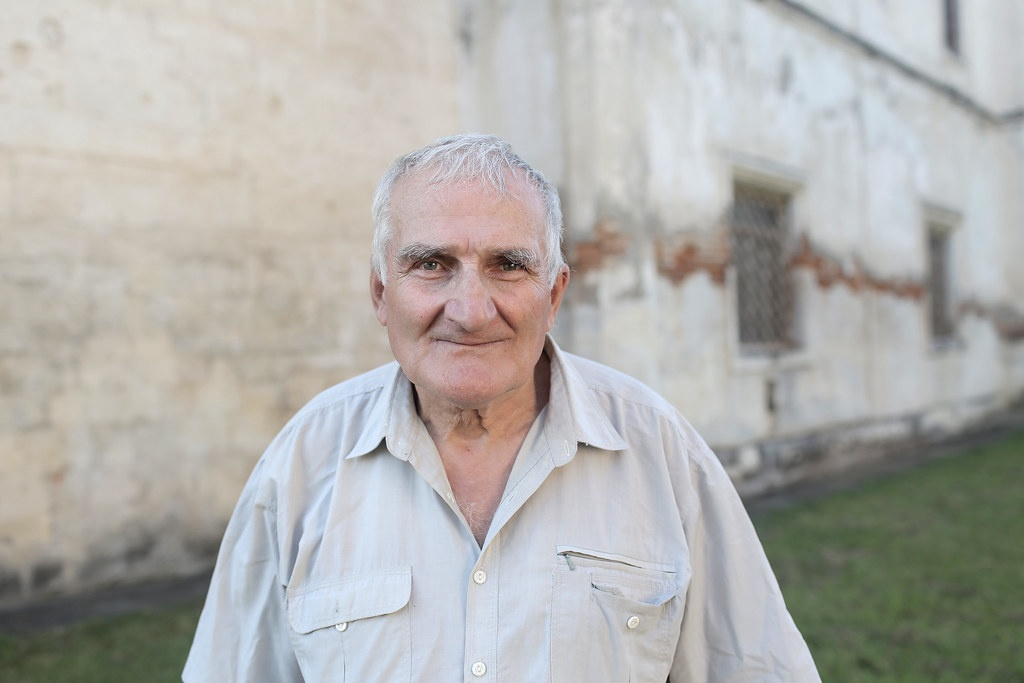without_mask: (368, 160, 578, 402)
